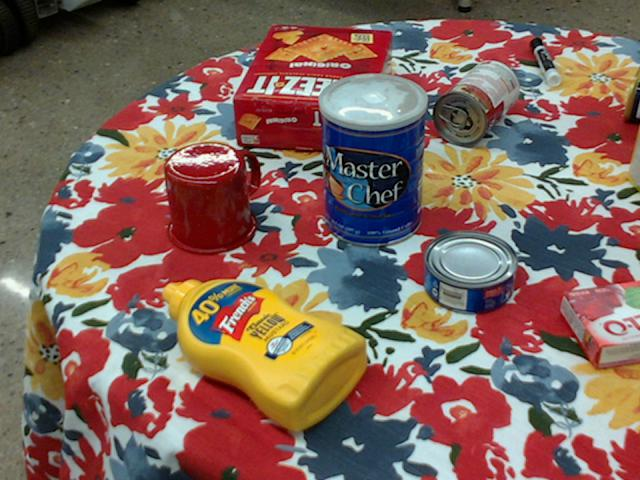cracker_box: (233, 24, 393, 154)
gelatin_box: (561, 280, 639, 368)
large_marker: (531, 37, 560, 85)
master_chef_can: (317, 72, 426, 247)
mug: (163, 141, 258, 254)
mustard_bottle: (162, 278, 368, 430)
potted_meat_can: (621, 61, 639, 119)
sugar_box: (626, 121, 639, 193)
tomato_soup_can: (433, 58, 518, 145)
tuna_fish_can: (424, 231, 519, 314)
